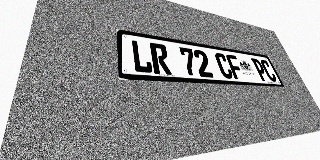2: (192, 49, 214, 78)
7: (178, 47, 200, 77)
C: (214, 52, 234, 79), (259, 59, 278, 82)
F: (225, 54, 245, 80)
L: (130, 40, 153, 74)
P: (251, 58, 270, 81)
R: (149, 42, 172, 75)
